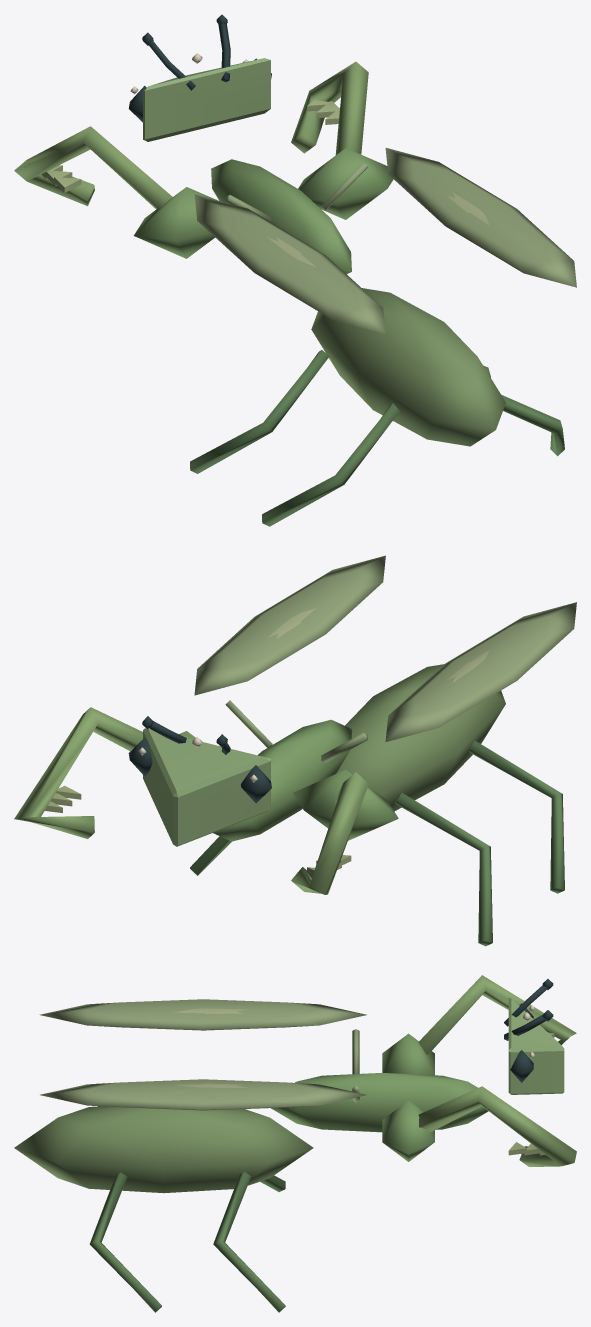
Rendered from insect_mantis.glb.
3 renders of one model, top to bottom at view 1: azimuth 30°, elevation 25°; view 2: azimuth 150°, elevation 25°; view 3: azimuth 270°, elevation 25°, orthographic. The views are drawn at different scales.
Parts seen in each view (by area): view 1: Model; view 2: Model; view 3: Model.
Part boxes in pixels (<box>): Model: <box>14,14,576,526</box>; Model: <box>14,555,576,946</box>; Model: <box>14,975,576,1312</box>.
Bounding box in the file's own units: 0.1421 × 0.1314 × 0.2594.
